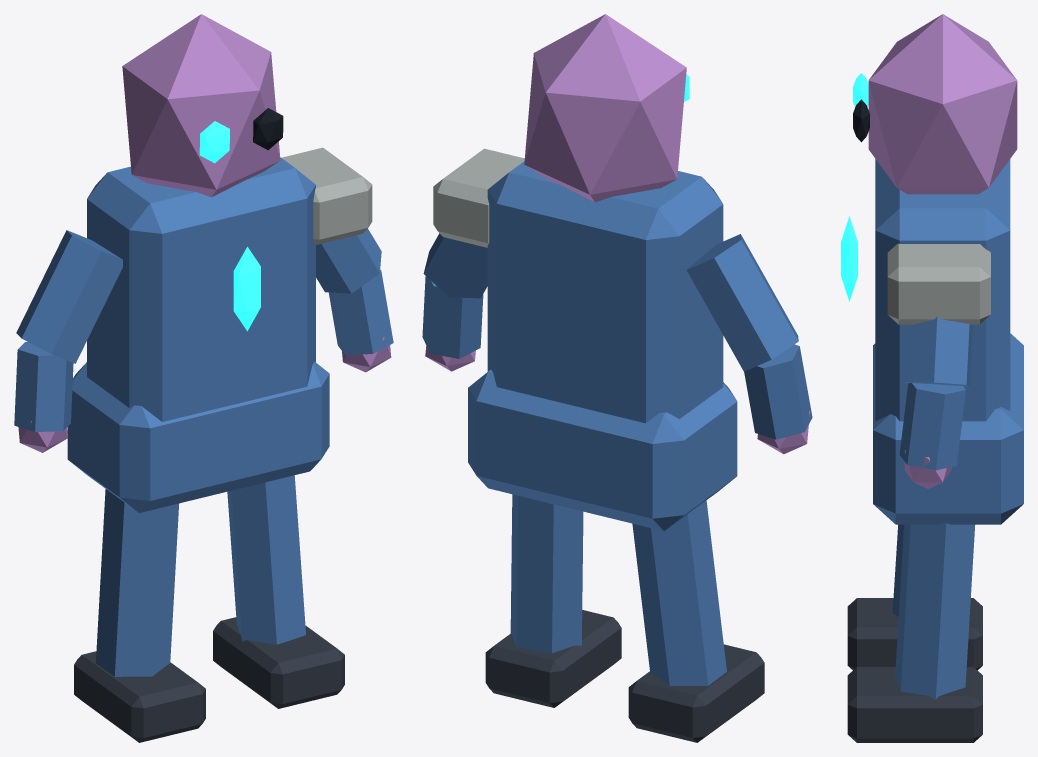
Rendered from npcs_006_seed100.glb.
The picture shows the model from 3 angles, left to right: view 1: azimuth 30°, elevation 25°; view 2: azimuth 150°, elevation 25°; view 3: azimuth 270°, elevation 25°; orthographic projection. The views are drawn at different scales.
Parts seen in each view (by area): view 1: npcs_006_seed100; view 2: npcs_006_seed100; view 3: npcs_006_seed100.
Part boxes in pixels (x1,y1,x2,y2): npcs_006_seed100: (14,14,393,742); npcs_006_seed100: (422,14,812,742); npcs_006_seed100: (841,14,1023,742).
Bounding box in the file's own units: 1.18 × 2.05 × 0.4971.
